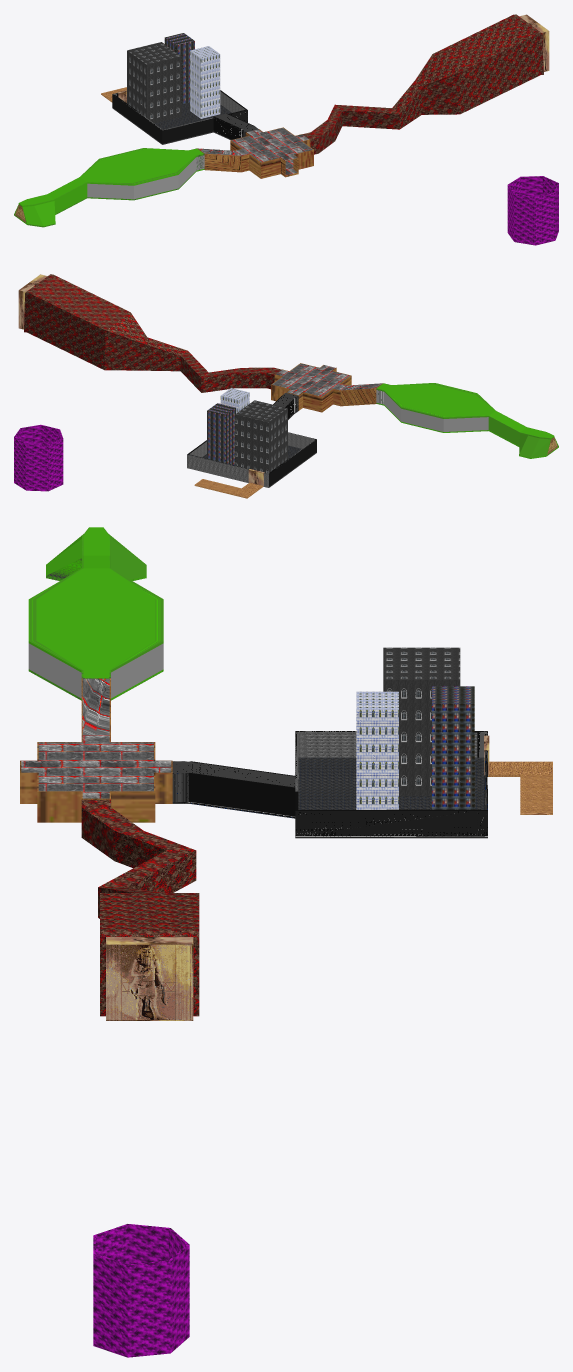
Rendered from room_v4.glb.
3 renders of one model, top to bottom at view 1: azimuth 30°, elevation 25°; view 2: azimuth 150°, elevation 25°; view 3: azimuth 270°, elevation 25°, orthographic. The views are drawn at different scales.
Parts seen in each view (by area): view 1: cave, Garden, Room, building2, City, Prison, building, building3, Monolith_cave_yellow; view 2: cave, Garden, Room, building2, Prison, City, building3, citySecretRoom, building, Monolith_cave_yellow; view 3: City, Garden, Room, Prison, cave, Monolith_cave_yellow, building2, building3, building, citySecretRoom.
Boxes of the visible parts, left/top/right/bottom form: cave: left=303, top=14, right=543, bottom=154; Garden: left=14, top=148, right=204, bottom=227; Room: left=197, top=127, right=313, bottom=178; building2: left=127, top=42, right=181, bottom=123; City: left=112, top=90, right=258, bottom=144; Prison: left=507, top=176, right=558, bottom=245; building: left=190, top=46, right=220, bottom=118; building3: left=164, top=33, right=194, bottom=104; Monolith_cave_yellow: left=519, top=14, right=549, bottom=71; cave: left=24, top=274, right=281, bottom=392; Garden: left=376, top=383, right=558, bottom=458; Room: left=271, top=363, right=382, bottom=412; building2: left=235, top=400, right=287, bottom=473; Prison: left=14, top=424, right=63, bottom=491; City: left=187, top=393, right=316, bottom=487; building3: left=207, top=403, right=235, bottom=465; citySecretRoom: left=194, top=479, right=263, bottom=498; building: left=220, top=388, right=249, bottom=413; Monolith_cave_yellow: left=18, top=274, right=47, bottom=329; City: left=172, top=731, right=487, bottom=838; Garden: left=28, top=527, right=163, bottom=700; Room: left=20, top=678, right=172, bottom=822; Prison: left=93, top=1224, right=189, bottom=1357; cave: left=81, top=799, right=199, bottom=1016; Monolith_cave_yellow: left=106, top=937, right=193, bottom=1020; building2: left=383, top=647, right=460, bottom=795; building3: left=432, top=686, right=474, bottom=809; building: left=356, top=691, right=398, bottom=809; citySecretRoom: left=488, top=761, right=552, bottom=814.
Bounding box in the file's own units: 133 × 48.59 × 58.44.
Materials: 20 (20 with a texture image).
